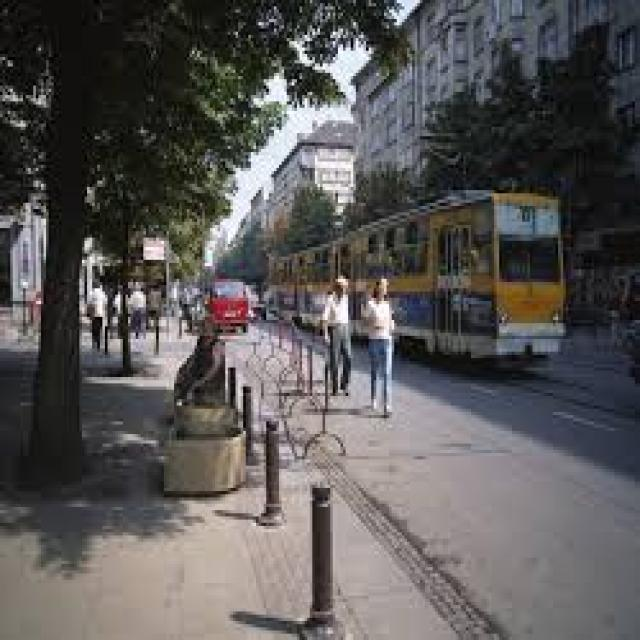bollard: (296, 477, 344, 640), (256, 412, 293, 531), (239, 382, 258, 476), (228, 361, 239, 410)
